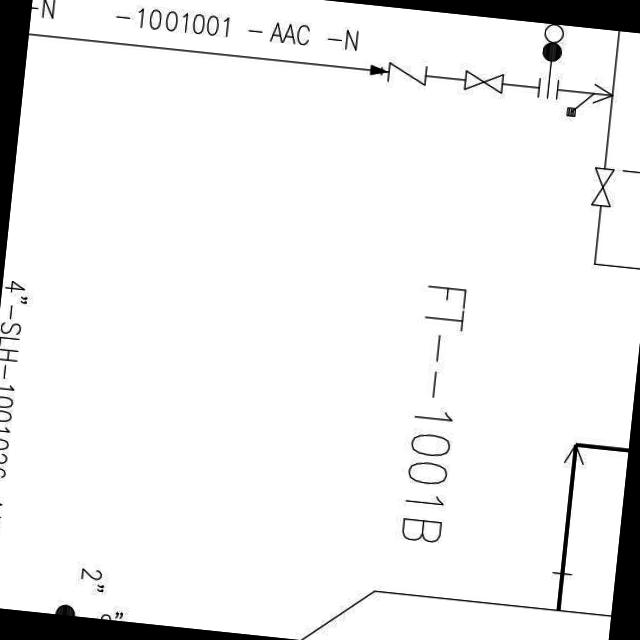GV: (457, 66, 511, 100), (586, 159, 620, 211)
